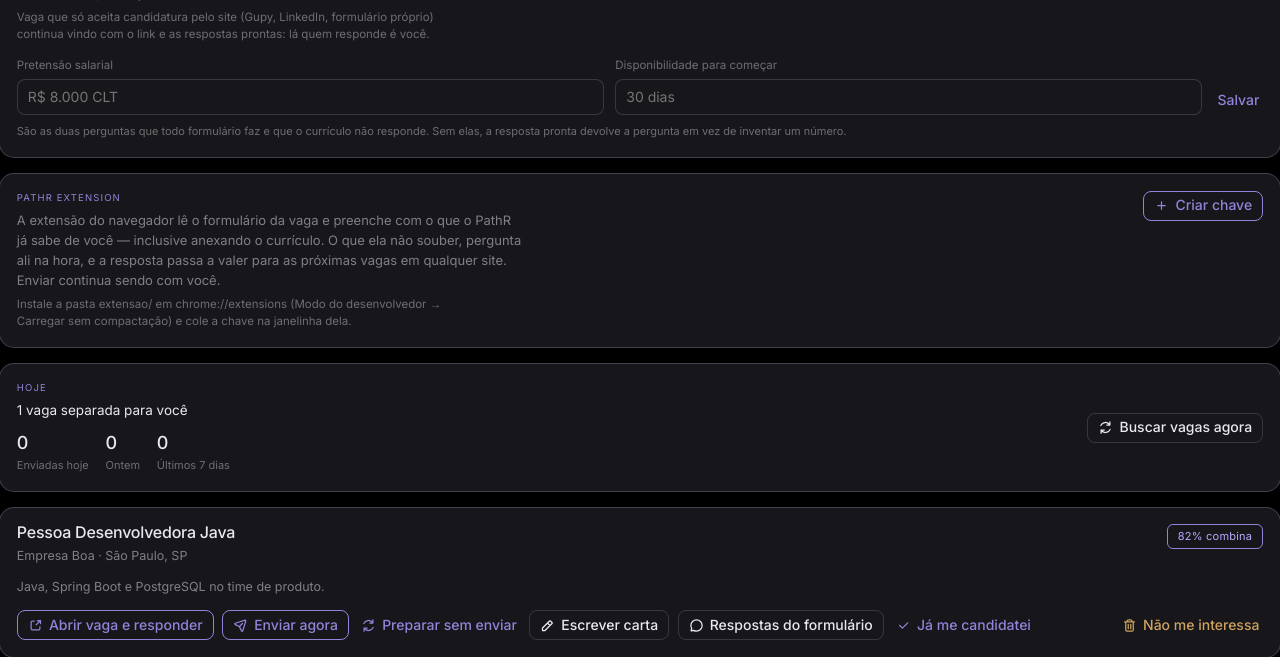
Test: candidaturas › prepara as respostas do formulário para conferir e colar
(page scrolled)
Click the button "Respostas do formulário" at (781, 625), box [678, 610, 884, 640]
(page scrolled)
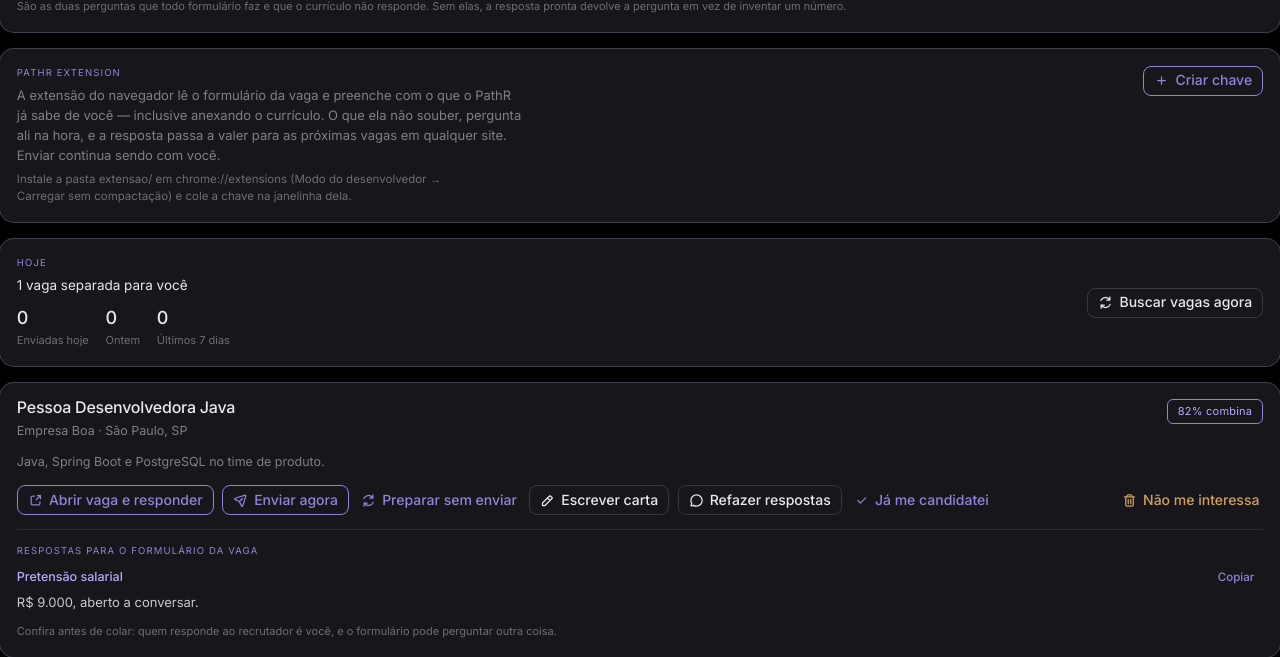
Check: the text "Pretensão salarial" below "Respostas para o formulário da vaga" is shown, box [17, 569, 123, 584]
Check: the button "Copiar" is shown, box [1209, 568, 1263, 588]
